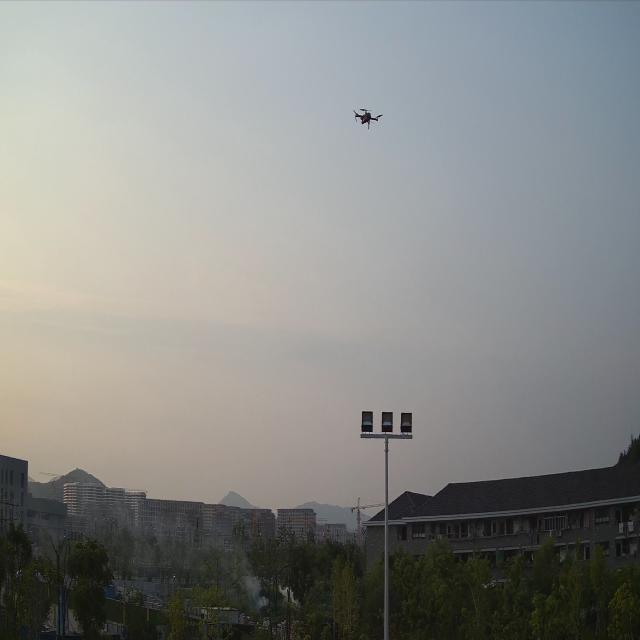UAV: (350, 107, 384, 129)
